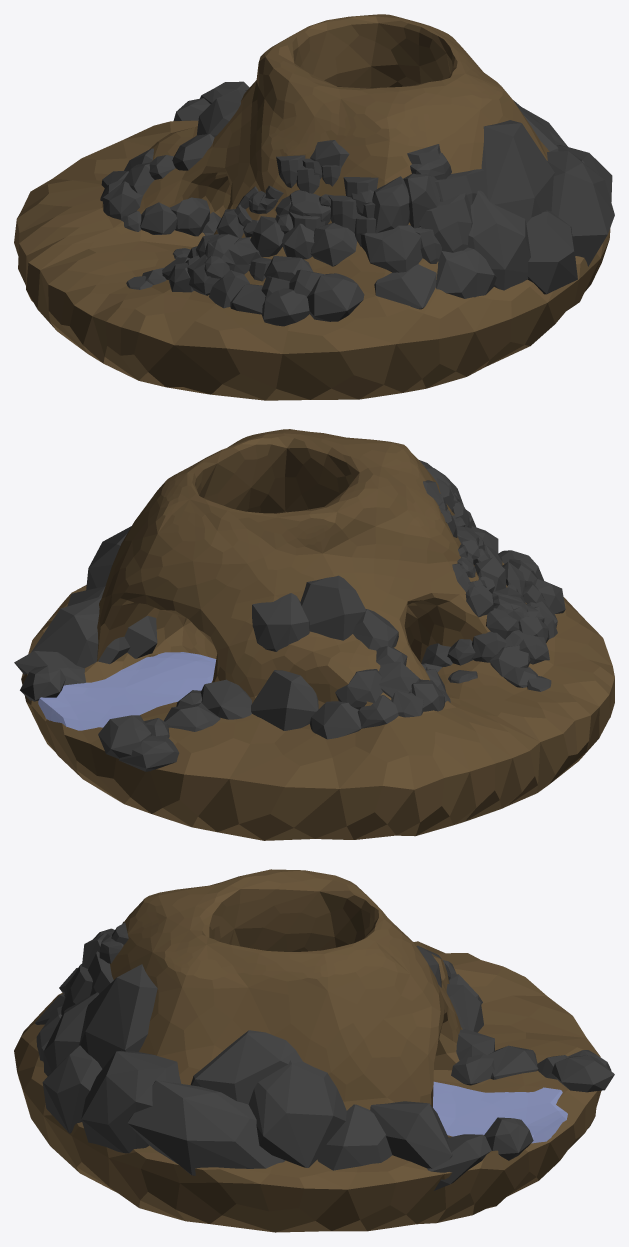
The model's file is Cavern Package.fbx.
The picture shows the model from 3 angles, top to bottom: view 1: azimuth 30°, elevation 25°; view 2: azimuth 150°, elevation 25°; view 3: azimuth 270°, elevation 25°; orthographic projection.
Visible parts, largest first — view 1: Cavern, Circle.043, Circle.042, Circle.040, Circle.041, Circle.034, Circle.036, Circle.014, Another Stone.011, Circle.035, Circle.004, Circle.005 (+29 smaller); view 2: Cavern, Circle.047, Circle.062, Circle.061, Circle.063, Circle.053, Circle.048, Circle.057, Circle.046, Circle.054, Circle.064, Circle.058 (+17 smaller); view 3: Cavern, Circle.044, Circle.045, Circle.042, Circle.043, Circle.056, Circle.047, Circle.046, Circle.041, Circle.040, Circle.053, Circle.051 (+8 smaller).
Part boxes in pixels (bbox=[...]): Cavern: bbox=[14, 14, 610, 400]; Circle.043: bbox=[481, 120, 554, 223]; Circle.042: bbox=[547, 151, 614, 266]; Circle.040: bbox=[468, 190, 530, 290]; Circle.041: bbox=[526, 210, 577, 294]; Circle.034: bbox=[436, 247, 496, 298]; Circle.036: bbox=[354, 224, 422, 272]; Circle.014: bbox=[307, 273, 364, 321]; Another Stone.011: bbox=[419, 193, 472, 252]; Circle.035: bbox=[374, 264, 436, 309]; Circle.004: bbox=[372, 176, 409, 232]; Circle.005: bbox=[310, 222, 356, 266]; Cavern: bbox=[21, 429, 614, 840]; Circle.047: bbox=[31, 596, 130, 668]; Circle.062: bbox=[300, 575, 365, 640]; Circle.061: bbox=[251, 670, 318, 730]; Circle.063: bbox=[252, 593, 309, 651]; Circle.053: bbox=[98, 715, 152, 758]; Circle.048: bbox=[200, 679, 251, 719]; Circle.057: bbox=[310, 701, 361, 739]; Circle.046: bbox=[67, 586, 157, 658]; Circle.054: bbox=[119, 735, 179, 771]; Circle.064: bbox=[353, 609, 398, 650]; Circle.058: bbox=[335, 669, 382, 709]; Cavern: bbox=[14, 869, 601, 1232]; Circle.044: bbox=[127, 1080, 285, 1175]; Circle.045: bbox=[248, 1060, 346, 1167]; Circle.042: bbox=[81, 1050, 181, 1153]; Circle.043: bbox=[79, 964, 157, 1068]; Circle.056: bbox=[190, 1030, 302, 1104]; Circle.047: bbox=[370, 1101, 452, 1168]; Circle.046: bbox=[317, 1104, 392, 1170]; Circle.041: bbox=[42, 1045, 102, 1133]; Circle.040: bbox=[43, 992, 98, 1076]; Circle.053: bbox=[551, 1055, 614, 1092]; Circle.051: bbox=[427, 1134, 491, 1190].
Size of the model in its own units: 3183 by 1564 by 3222.
